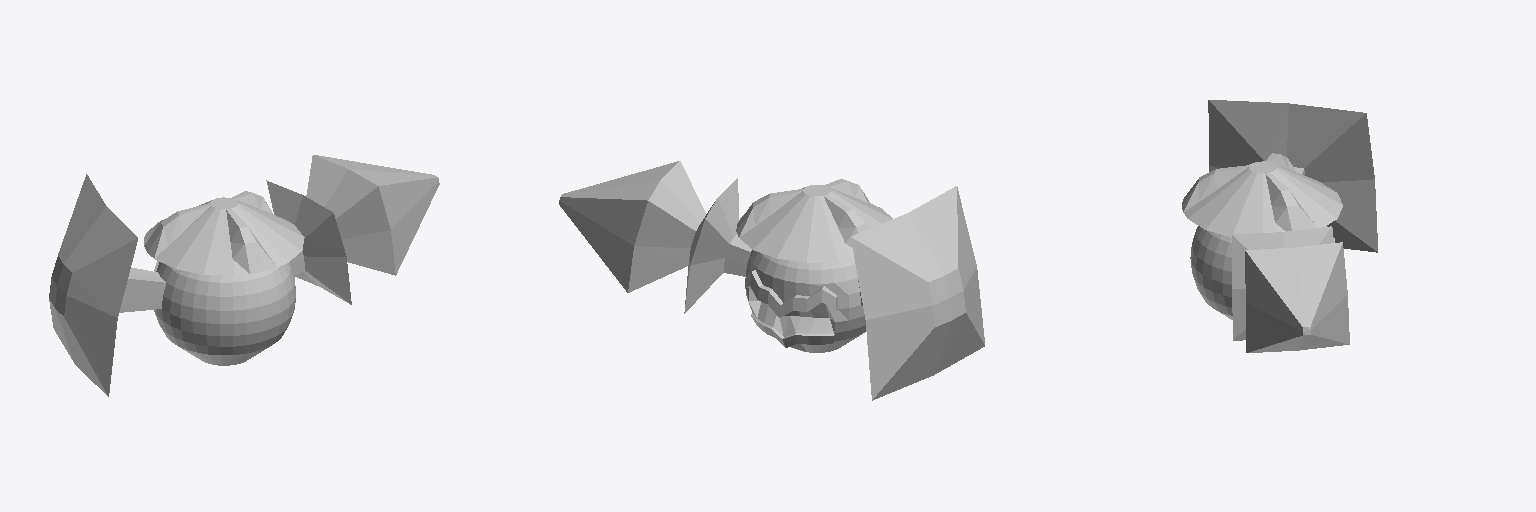
Rendered from digimon_type.obj.
3 renders of one model, left to right at view 1: azimuth 30°, elevation 25°; view 2: azimuth 150°, elevation 25°; view 3: azimuth 270°, elevation 25°, orthographic.
Parts seen in each view (by area): view 1: Sphere_Sphere.002; view 2: Sphere_Sphere.002; view 3: Sphere_Sphere.002.
Boxes of the visible parts, x1,y1,x2,y2 form: Sphere_Sphere.002: [49, 155, 439, 396]; Sphere_Sphere.002: [559, 161, 984, 400]; Sphere_Sphere.002: [1182, 100, 1377, 352].
Bounding box in the file's own units: 6.24 × 2.5 × 2.73.